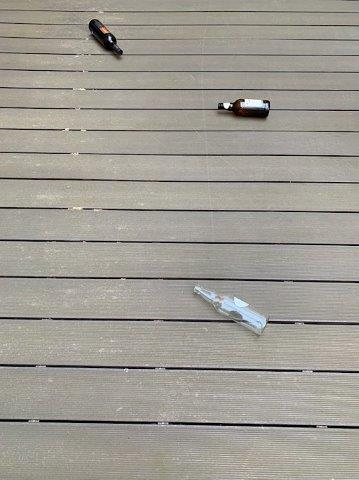botolkaca: (193, 285, 270, 336), (88, 19, 122, 56), (217, 99, 271, 117)
